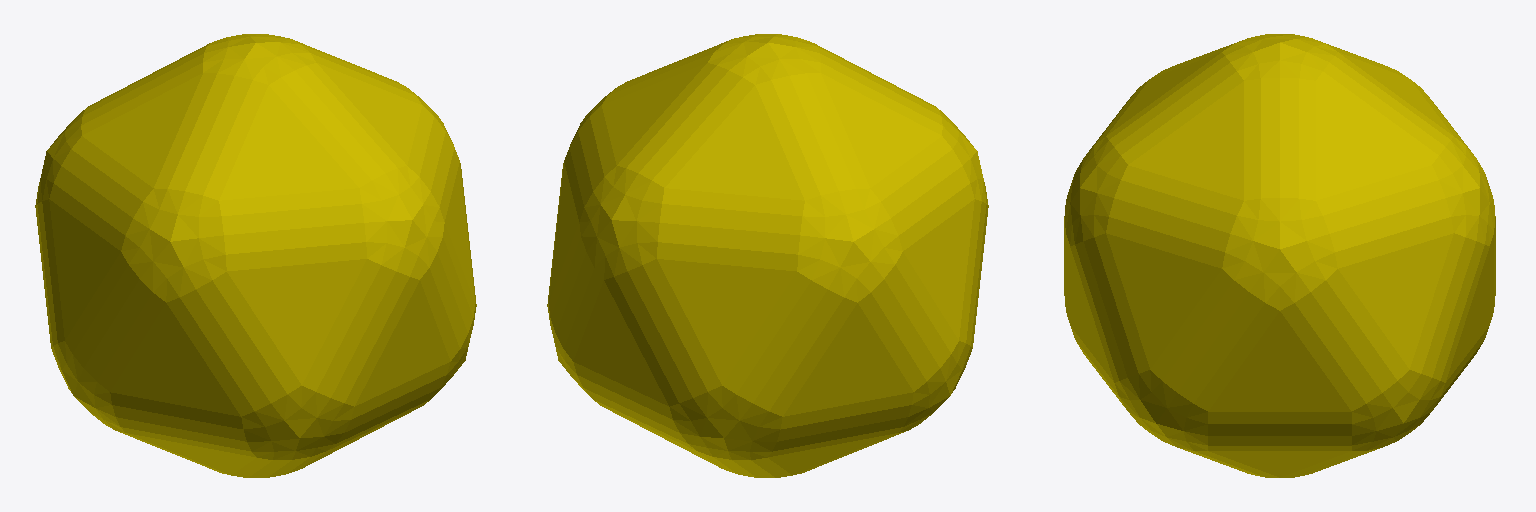
The model's file is icosahedron.obj.
3 views of the same model, side by side, from view 1: azimuth 30°, elevation 25°; view 2: azimuth 150°, elevation 25°; view 3: azimuth 270°, elevation 25° (orthographic).
Parts seen in each view (by area): view 1: Icosphere; view 2: Icosphere; view 3: Icosphere.
Part boxes in pixels (left/top/right/bottom): Icosphere: left=35, top=34, right=476, bottom=477; Icosphere: left=547, top=34, right=988, bottom=477; Icosphere: left=1064, top=34, right=1495, bottom=477.
Bounding box in the file's own units: 1.68 × 1.79 × 1.64.